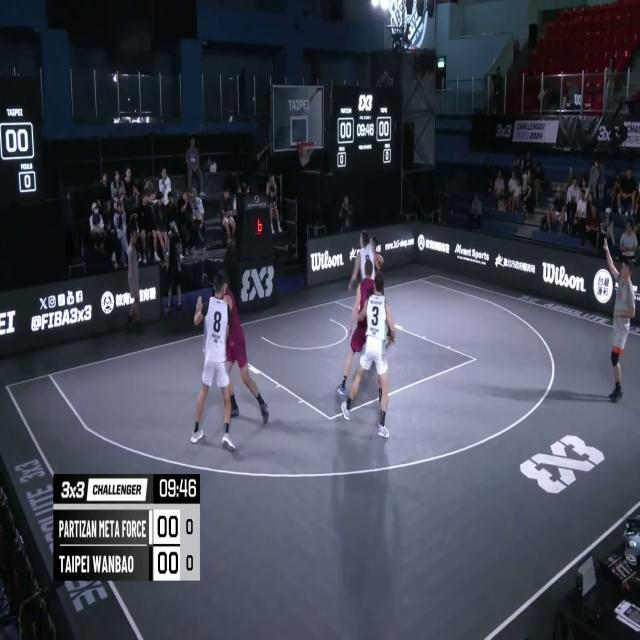ball: (301, 144, 312, 165)
hoop: (297, 137, 316, 170)
player: (340, 271, 397, 439), (191, 276, 235, 452), (218, 272, 268, 422), (334, 258, 379, 398), (348, 231, 381, 296), (356, 238, 384, 314)
